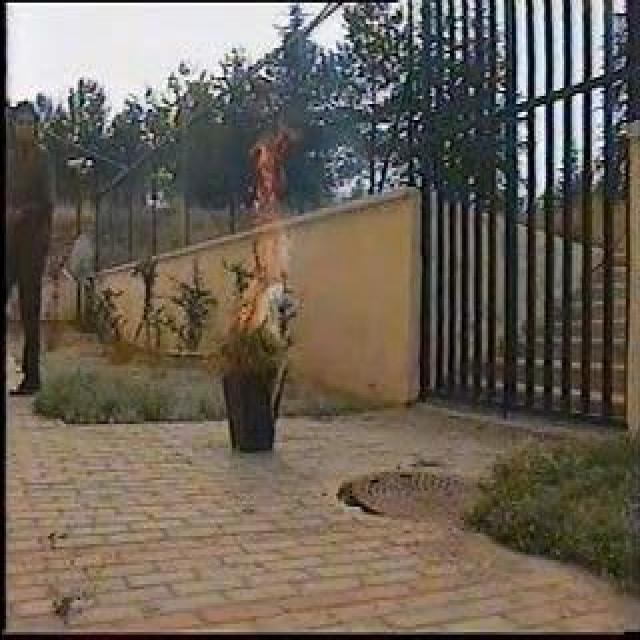fire: (238, 128, 280, 315)
